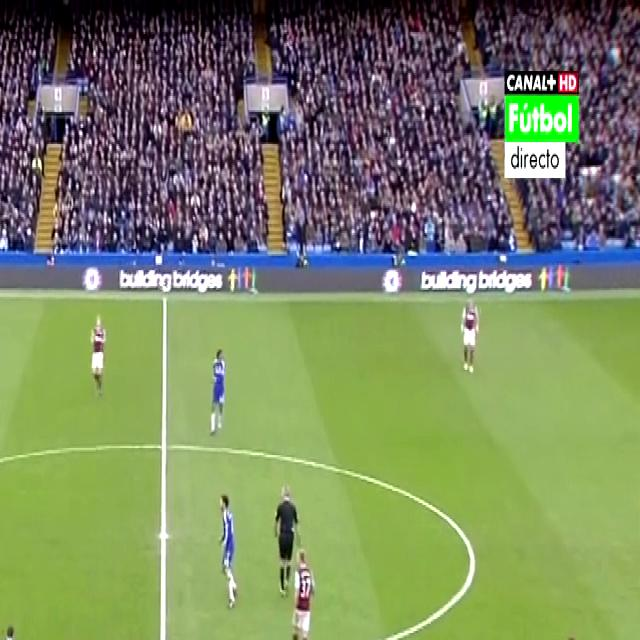referee: (267, 472, 303, 600)
soccer-player: (214, 484, 245, 618), (284, 544, 318, 640), (202, 340, 230, 440), (456, 290, 483, 377), (86, 305, 111, 397), (549, 618, 593, 640), (0, 608, 22, 640)
